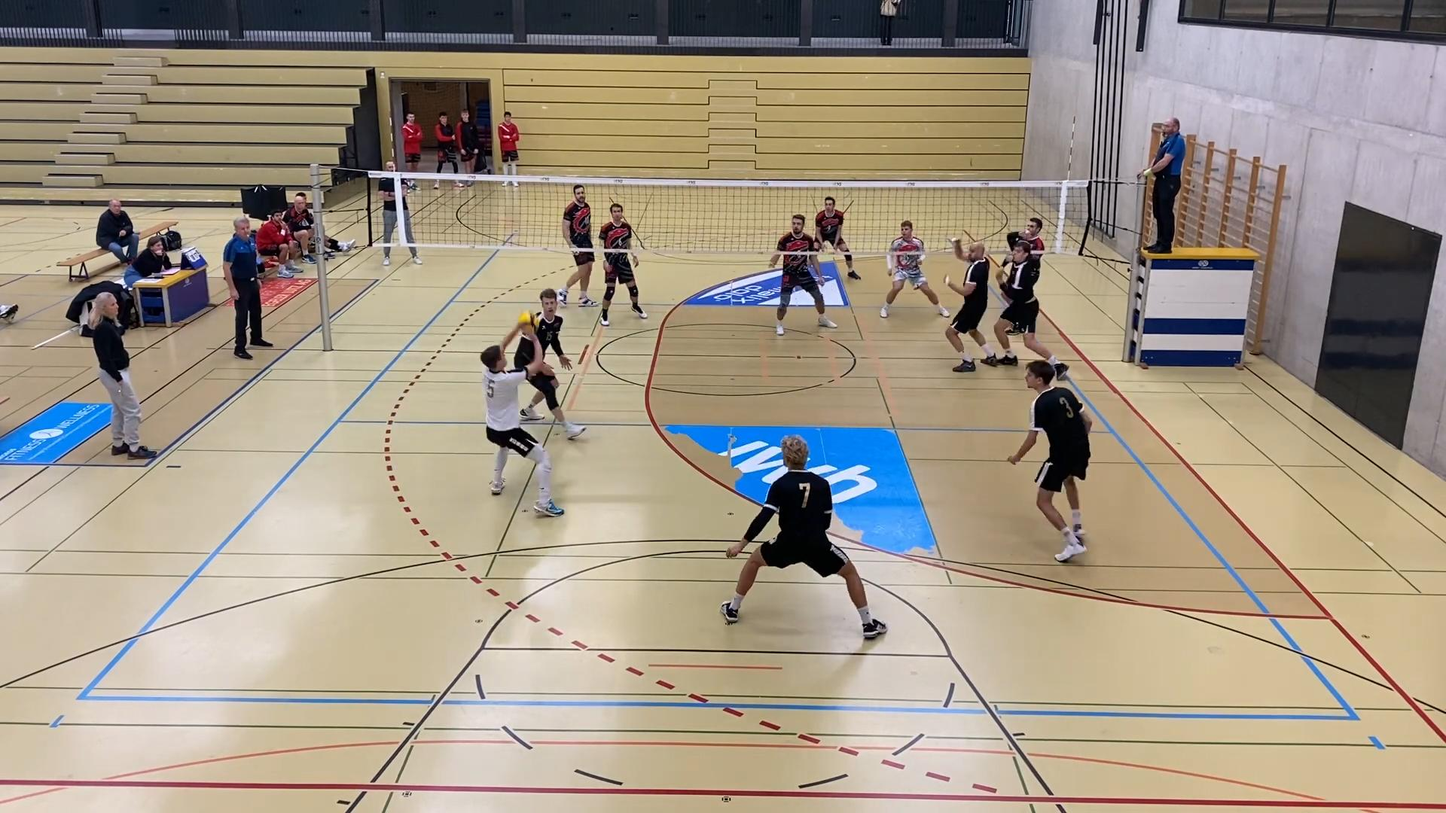difesa: (479, 314, 566, 521)
